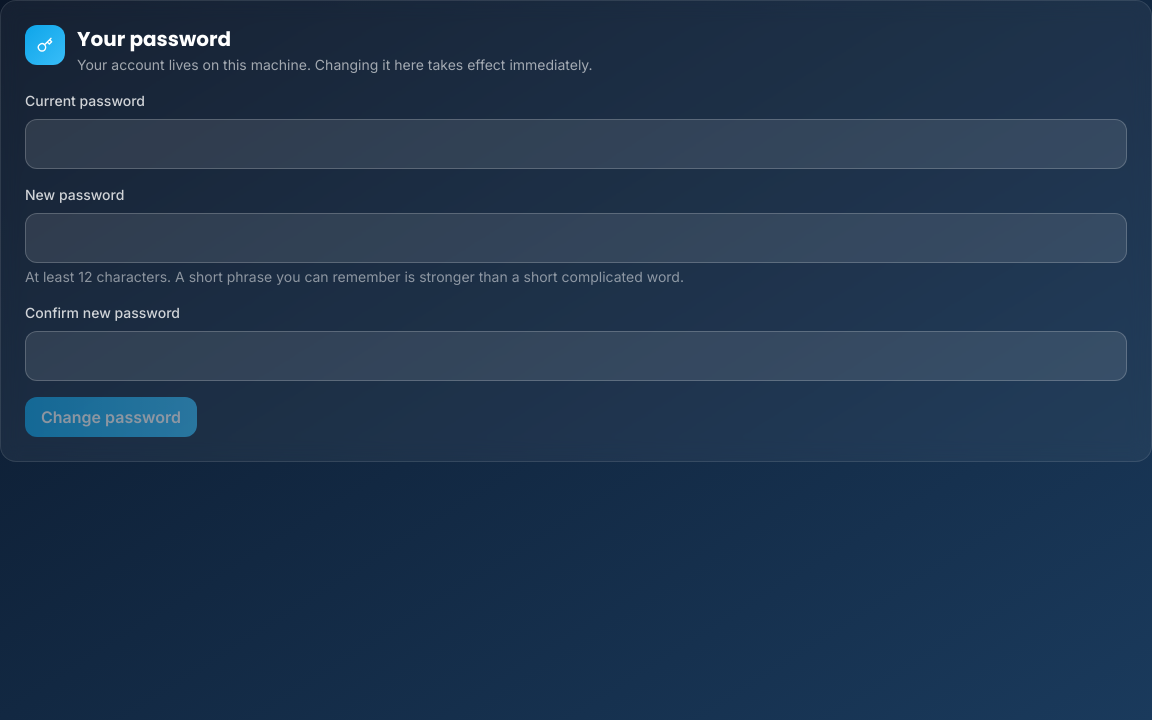
changing your own password › applies the length rule locally, so the answer is instant
This screenshot has width=1152, height=720.
In the password field labelled "Current password": (576, 144) [25, 119, 1127, 169], type "my old passphrase"
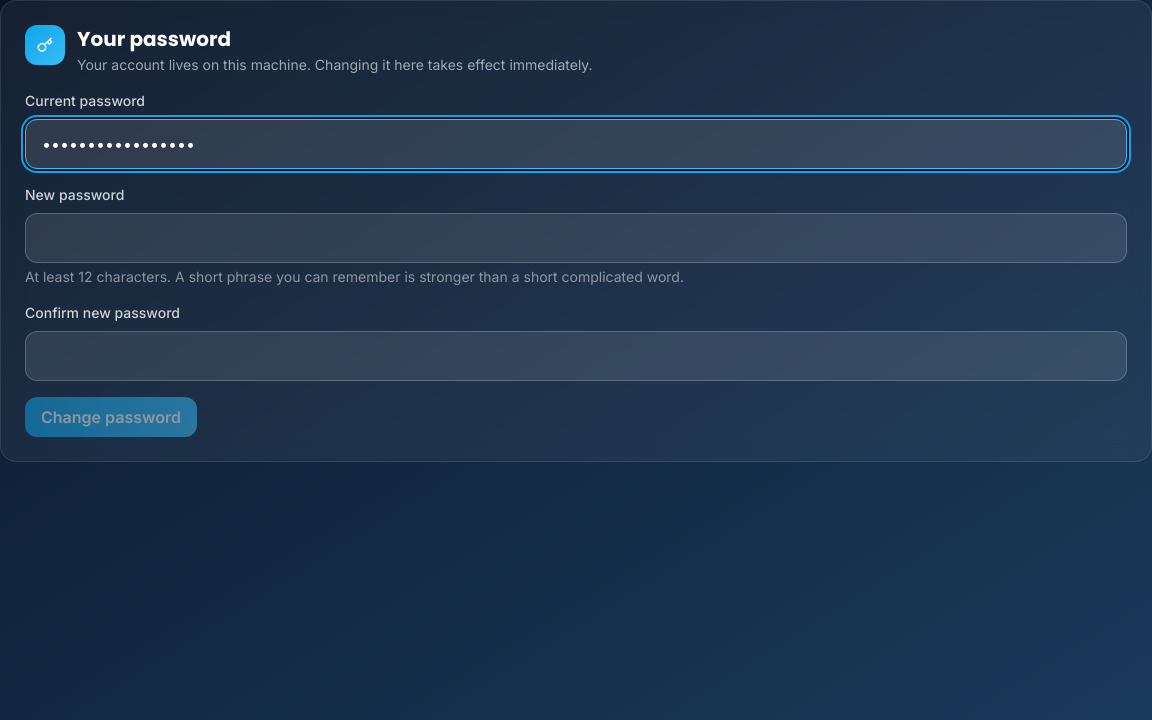
In the password field labelled "New password": (576, 238) [25, 213, 1127, 263], type "short"
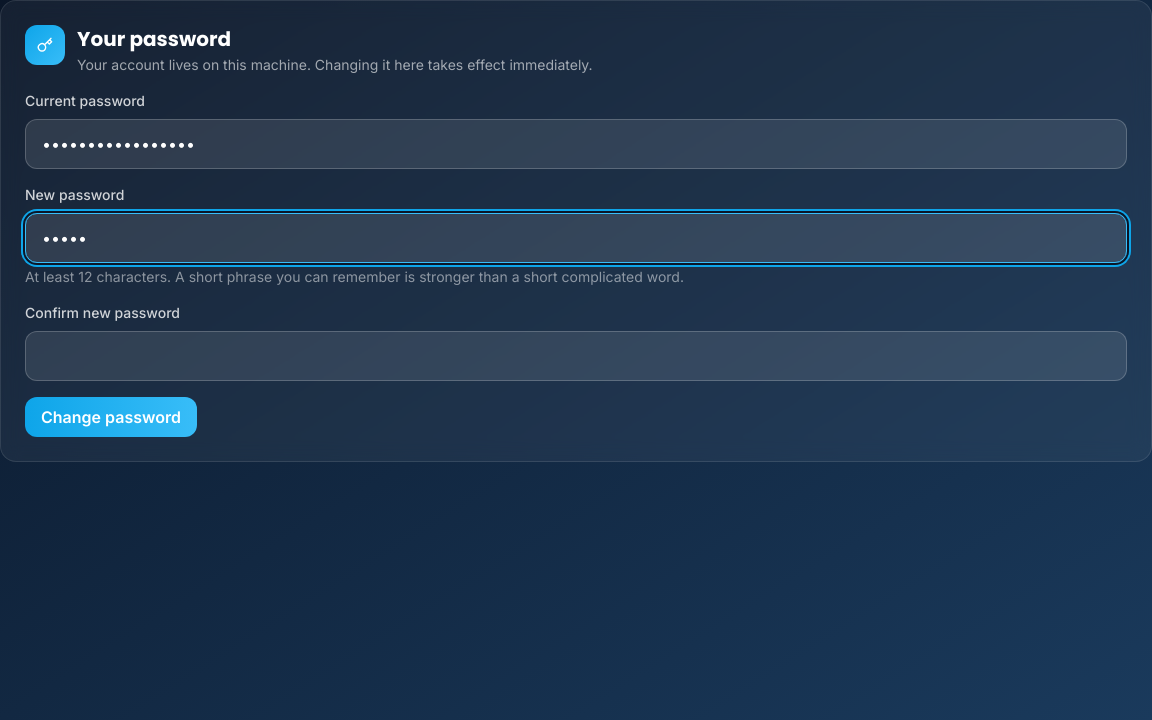
In the password field labelled "Confirm new password": (576, 356) [25, 331, 1127, 381], type "short"
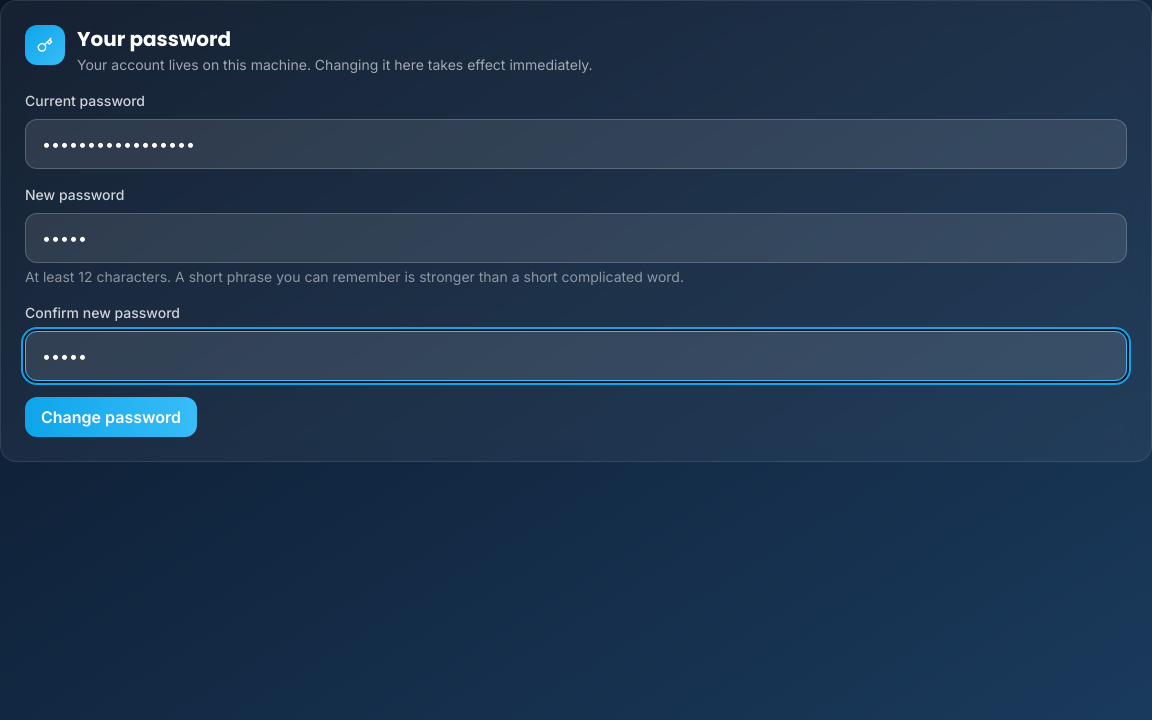
Click the button "Change password": (111, 417) [25, 397, 197, 437]
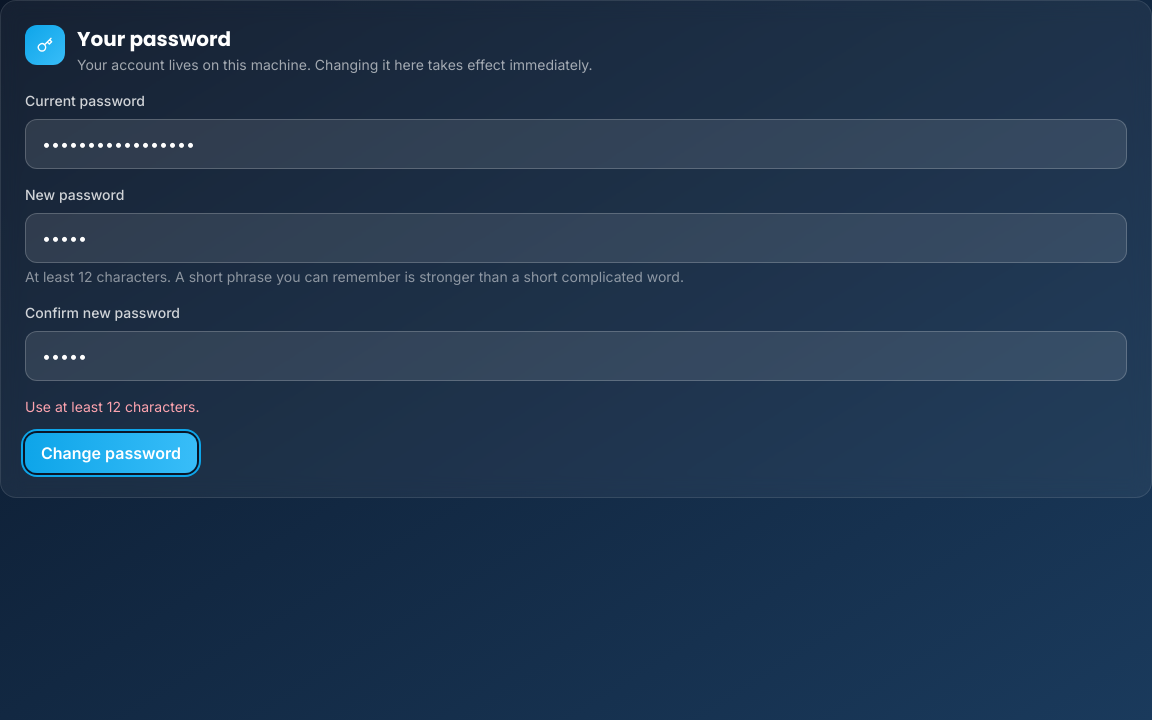
Expected: the message shows "at least 12", [25, 398, 200, 415]
